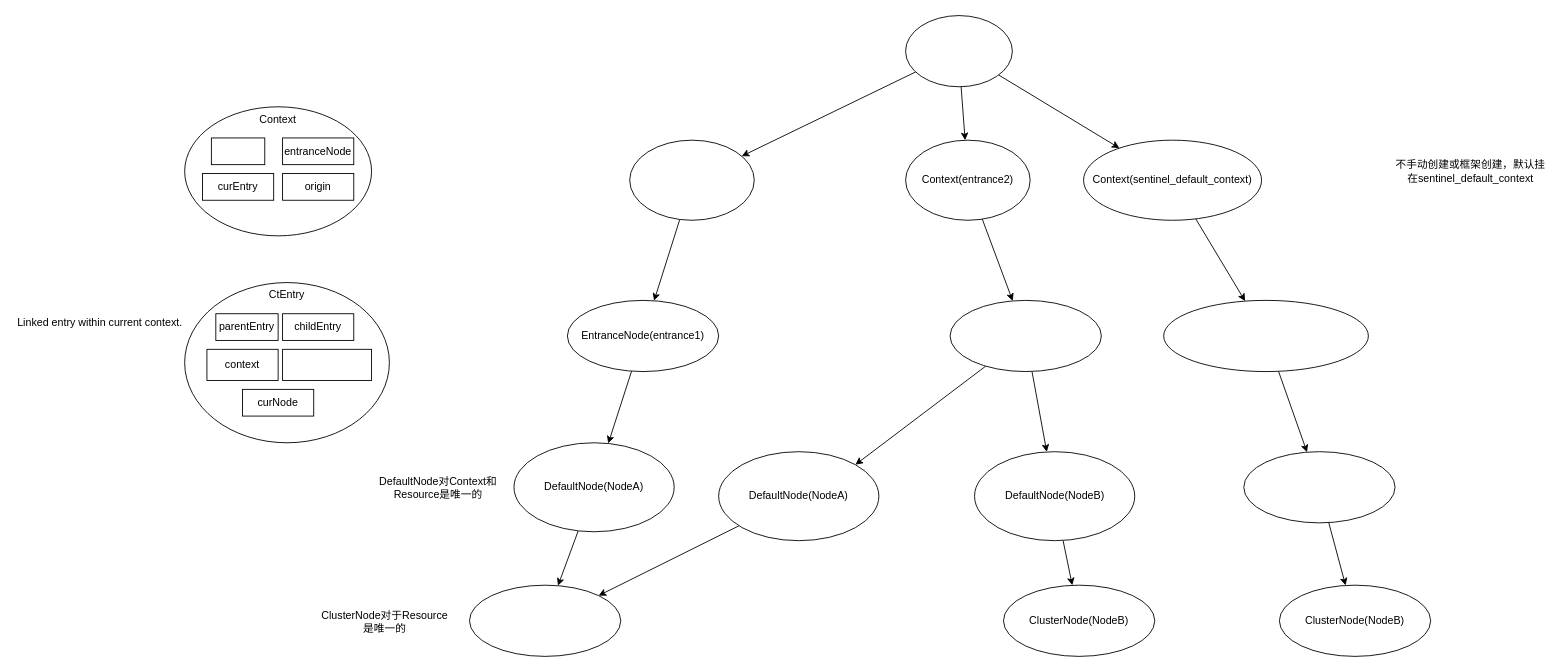
The diagram is 1561 pixels wide and 672 high, and some of its shapes have lost their labels. The centre of each missing label's shape, as x and y in pixels:
ClusterNode(NodeA): the point at 545,620
Context(entrance1): the point at 691,179
DefaultNode(NodeC): the point at 1319,487
EntranceNode(entrance2): the point at 1025,335
EntranceNode(sentinel_default_context): the point at 1265,335
name: the point at 237,151
ProcessSlotChain: the point at 327,364
Root: the point at 958,51
